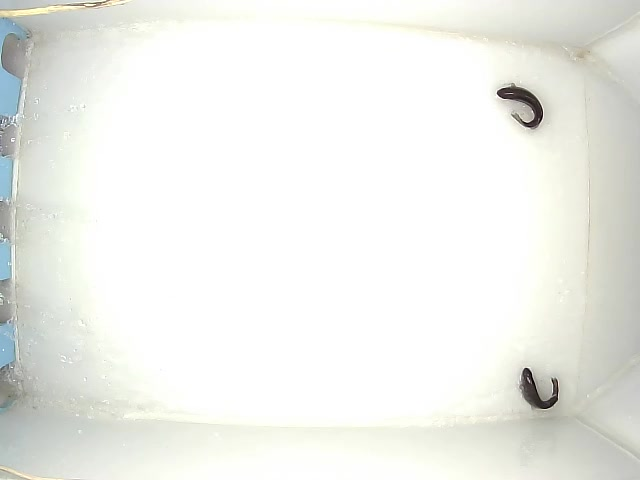fish: (496, 82, 545, 131), (518, 367, 560, 412)
